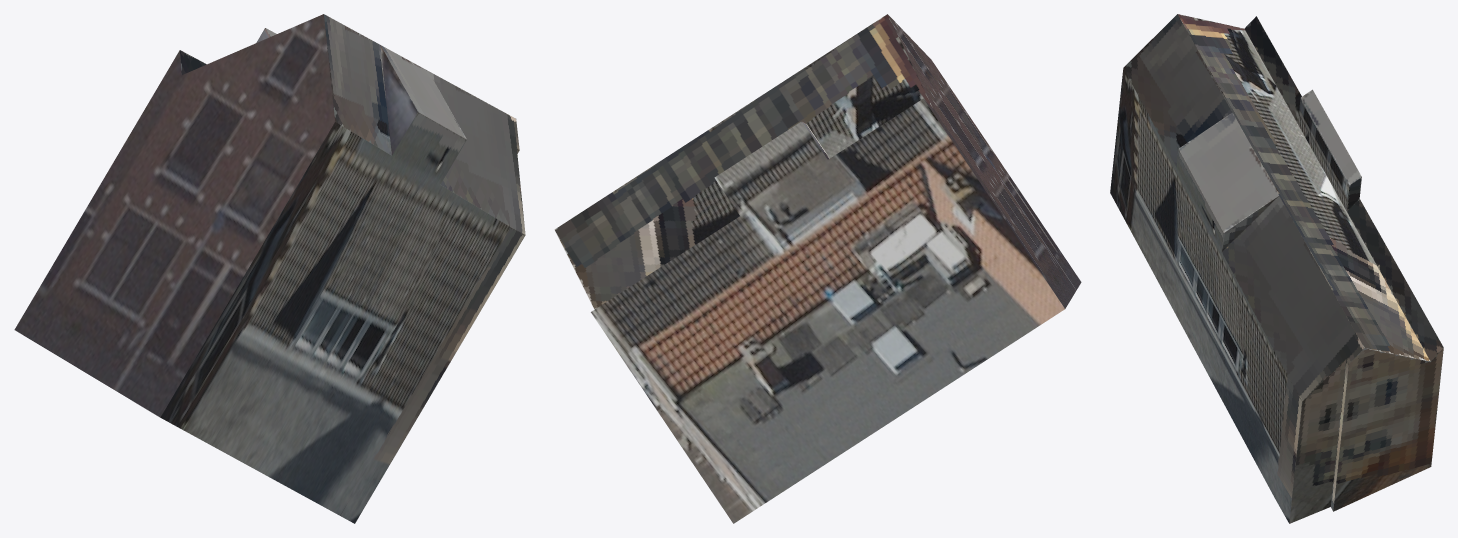
The picture shows the model from 3 angles, left to right: view 1: azimuth 30°, elevation 25°; view 2: azimuth 150°, elevation 25°; view 3: azimuth 270°, elevation 25°; orthographic projection. The views are drawn at different scales.
Visible parts, largest first — view 1: BAG_0599100000656925 (×4); view 2: BAG_0599100000656925 (×2); view 3: BAG_0599100000656925 (×5).
Part boxes in pixels (x1,y1,x2,y2): BAG_0599100000656925 (×4): (14, 14, 525, 523); BAG_0599100000656925 (×2): (554, 14, 1081, 523); BAG_0599100000656925 (×5): (1110, 14, 1443, 523).
Bounding box in the file's own units: 16.16 × 15.67 × 10.08.
5 materials, 5 textured.
